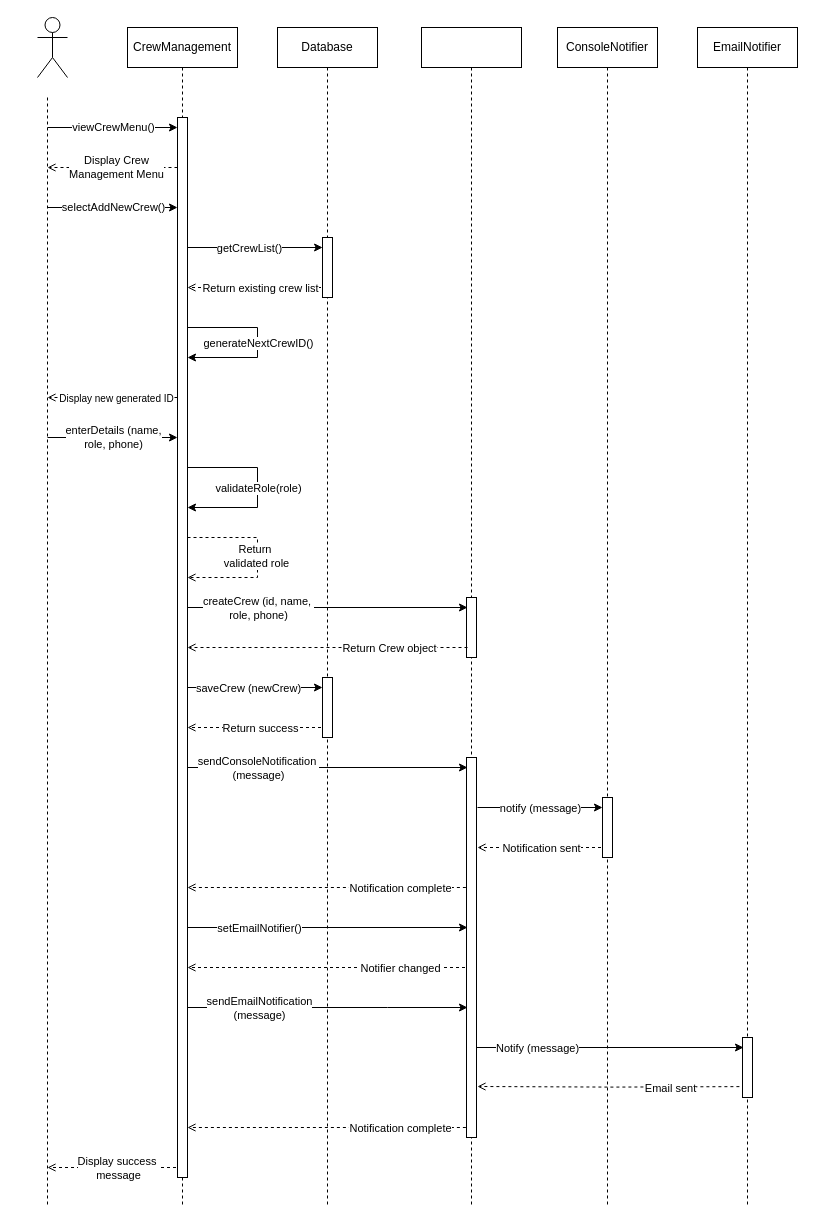
This 815x1226 diagram has some shape labels left out. The centre of each missing label's shape, as x and y in pixels:
Administrator: the point at 52,47
Crew: the point at 471,617
